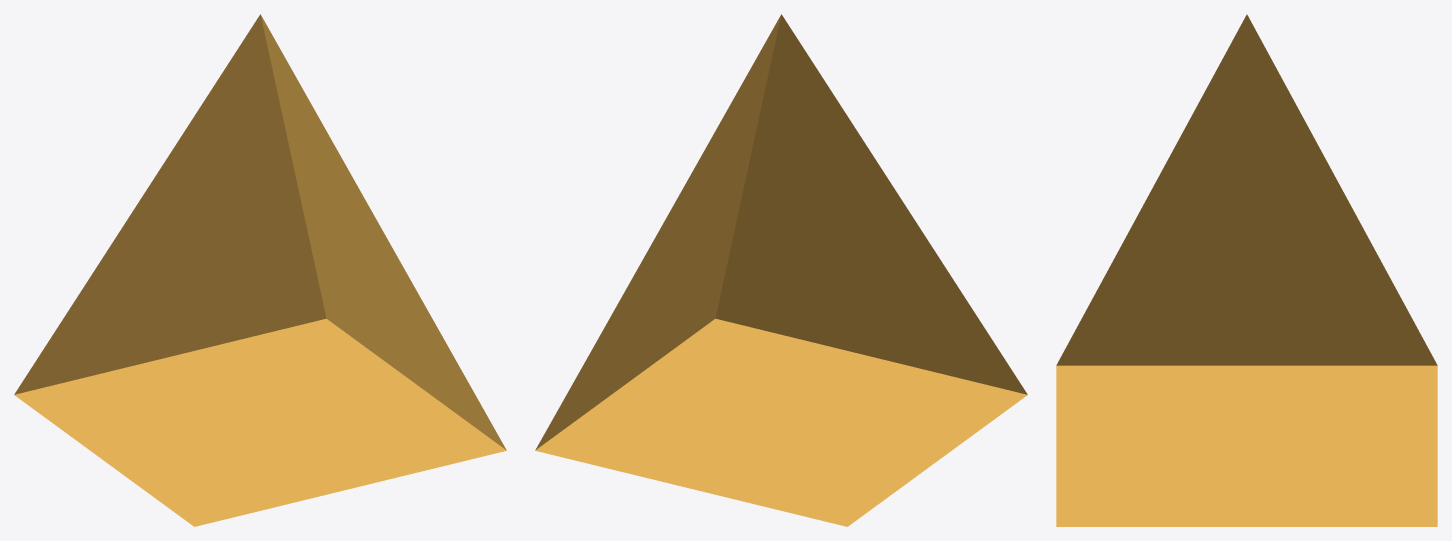
3 views of the same model, side by side, from view 1: azimuth 30°, elevation 25°; view 2: azimuth 150°, elevation 25°; view 3: azimuth 270°, elevation 25° (orthographic). The views are drawn at different scales.
Size of the model in its own units: 2 by 2.5 by 2.
